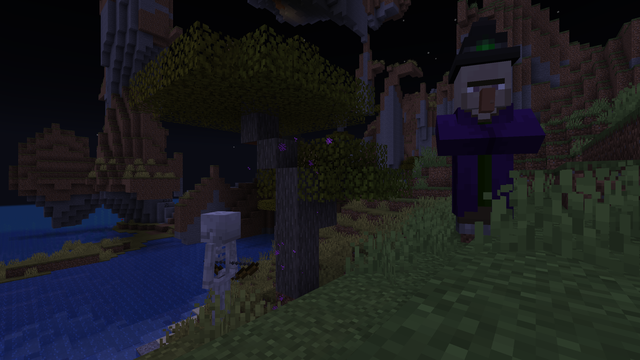sorcieres: (445, 47, 513, 241)
squelettes: (198, 210, 244, 332)
